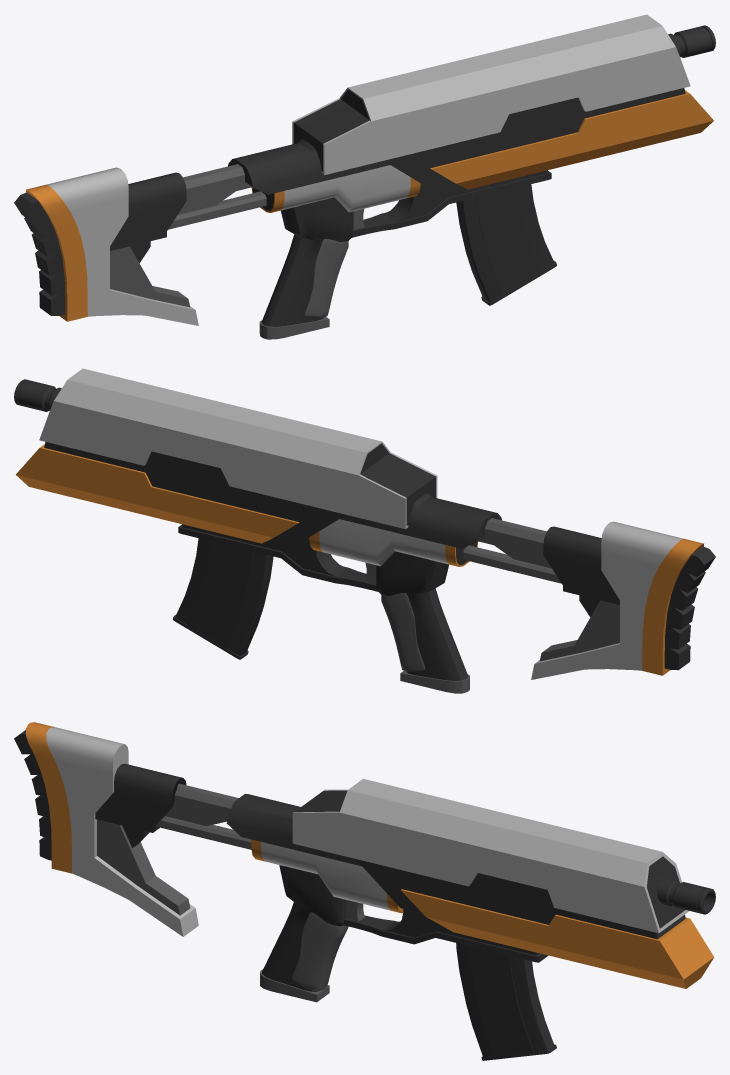
The model's file is SMG_2.gltf.
3 views of the same model, one above another, from view 1: azimuth 30°, elevation 25°; view 2: azimuth 150°, elevation 25°; view 3: azimuth 330°, elevation 25° (orthographic).
Parts seen in each view (by area): view 1: SMG_2, Magazine_SMG_2; view 2: SMG_2, Magazine_SMG_2; view 3: SMG_2, Magazine_SMG_2.
Part boxes in pixels (x1,y1,x2,y2): SMG_2: (14, 14, 715, 339); Magazine_SMG_2: (456, 184, 556, 305); SMG_2: (14, 368, 715, 693); Magazine_SMG_2: (173, 538, 273, 659); SMG_2: (14, 722, 715, 1002); Magazine_SMG_2: (456, 943, 556, 1060).
Bounding box in the file's own units: 2.2 × 0.7377 × 0.176.
